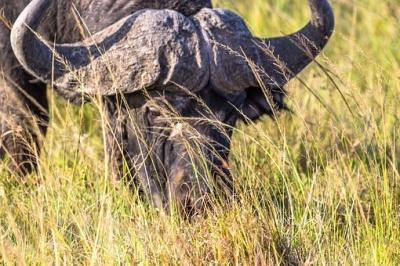buffalo: (10, 0, 335, 221)
